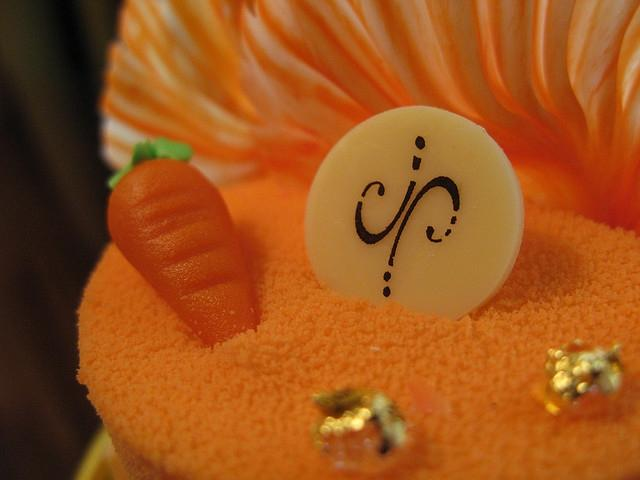carrot: (107, 137, 258, 347)
